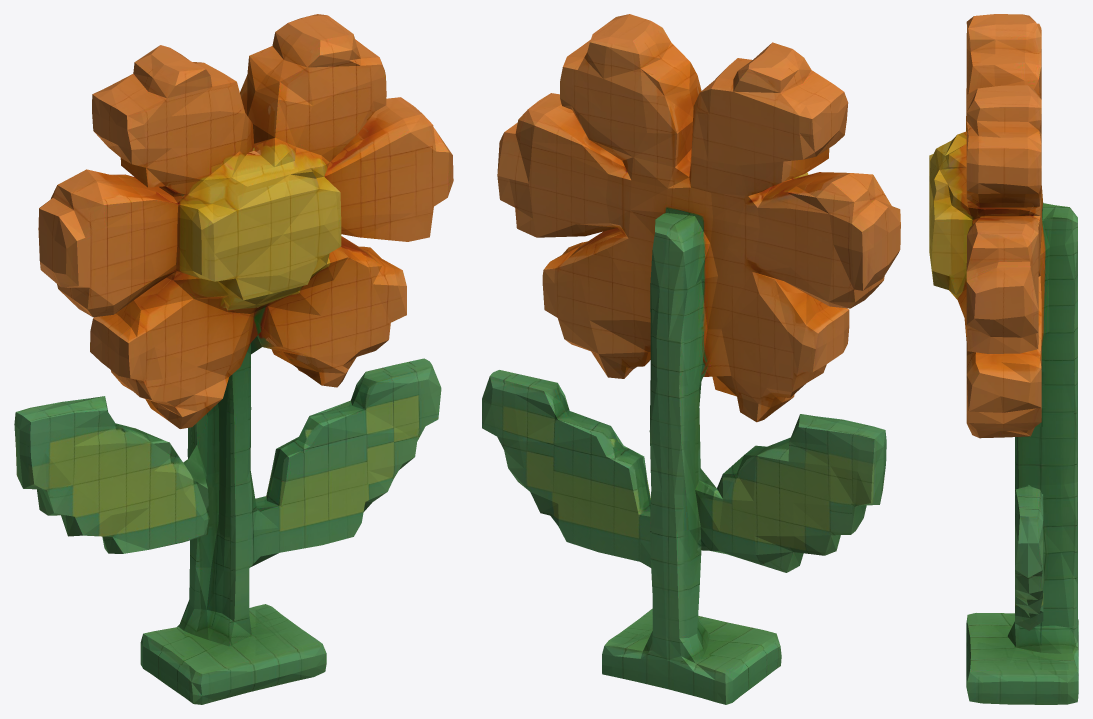
File: yelow flower.obj
The picture shows the model from 3 angles, left to right: view 1: azimuth 30°, elevation 25°; view 2: azimuth 150°, elevation 25°; view 3: azimuth 270°, elevation 25°; orthographic projection. The views are drawn at different scales.
Parts seen in each view (by area): view 1: tripo_node_e60a3a53-659f-4987-8188-0d52585b8ee1; view 2: tripo_node_e60a3a53-659f-4987-8188-0d52585b8ee1; view 3: tripo_node_e60a3a53-659f-4987-8188-0d52585b8ee1.
Part boxes in pixels (x1=…): tripo_node_e60a3a53-659f-4987-8188-0d52585b8ee1: x1=14, y1=14, x2=453, y2=704; tripo_node_e60a3a53-659f-4987-8188-0d52585b8ee1: x1=482, y1=14, x2=900, y2=704; tripo_node_e60a3a53-659f-4987-8188-0d52585b8ee1: x1=929, y1=14, x2=1078, y2=704.
Size of the model in its own units: 0.6735 by 0.9997 by 0.2176.
